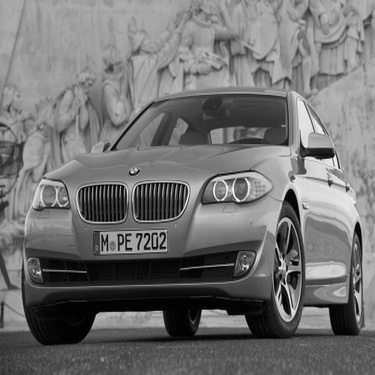car: (17, 80, 367, 352)
